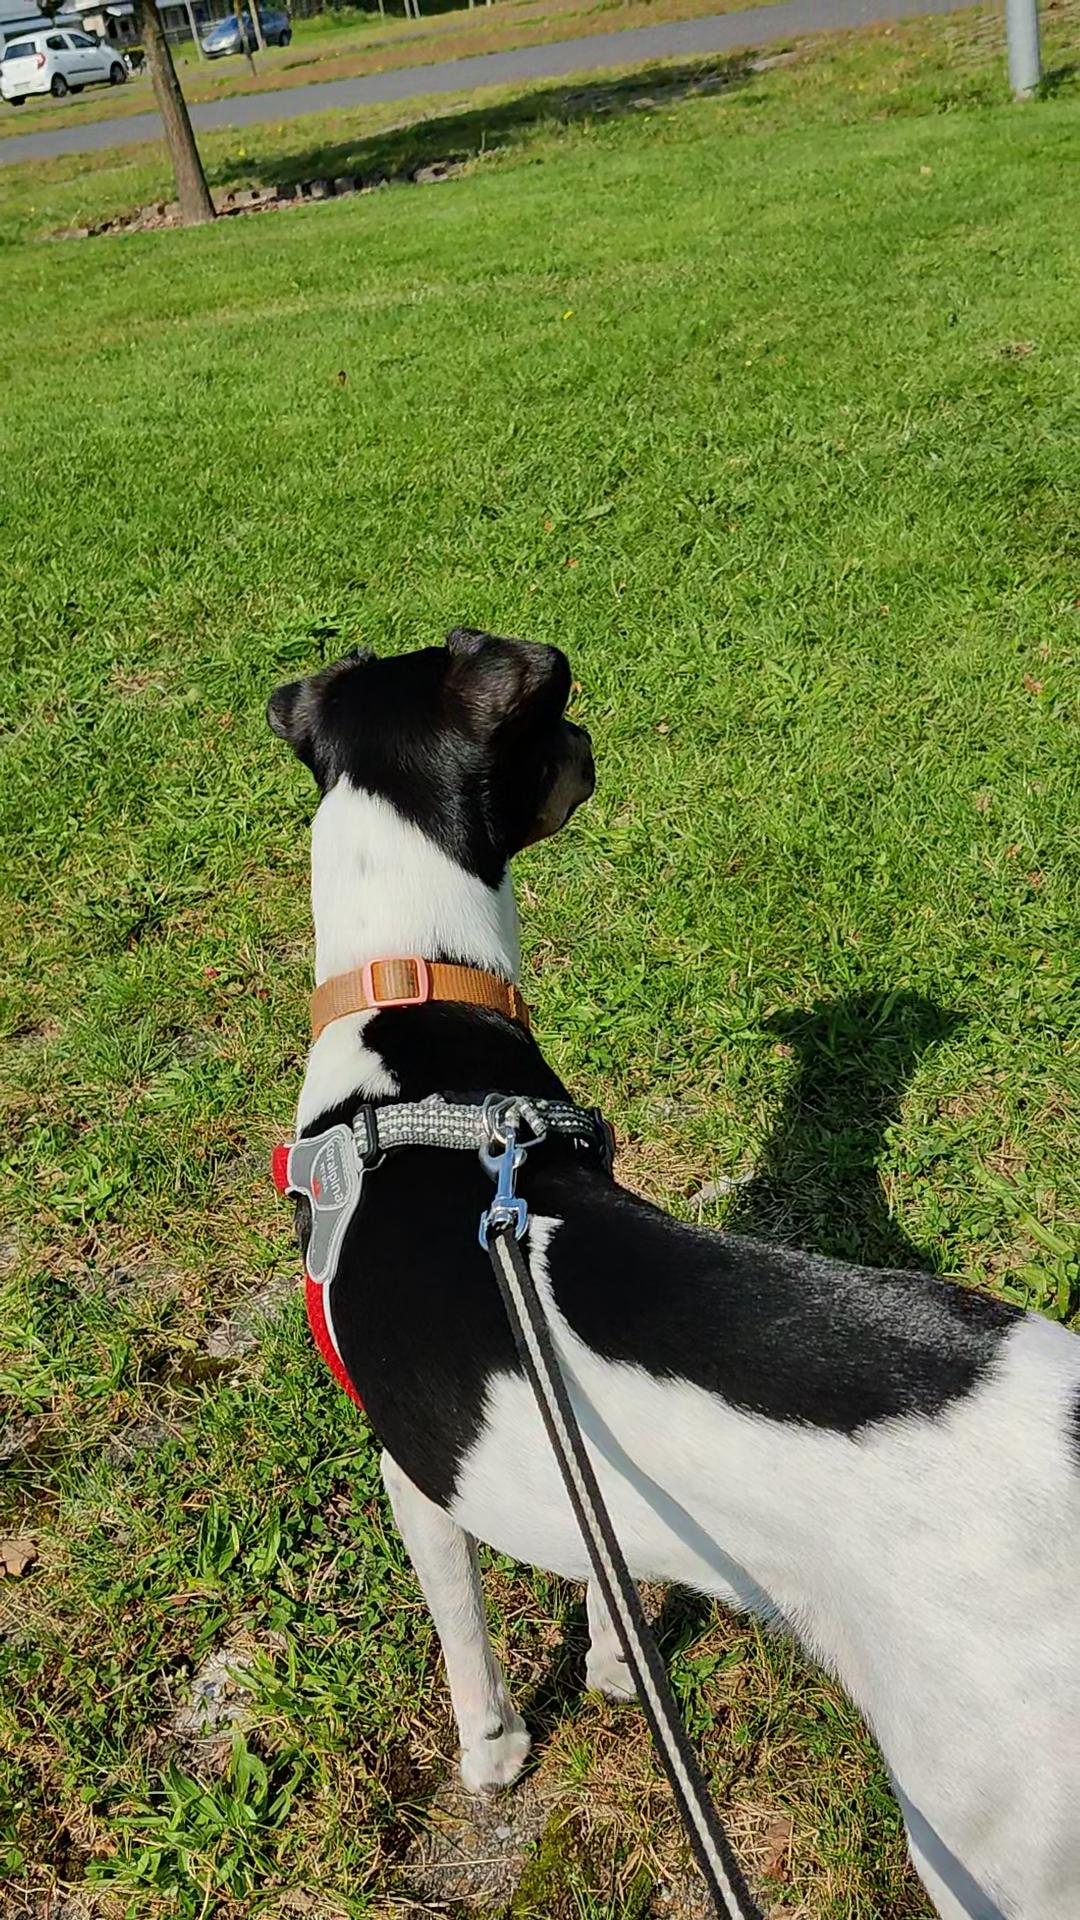Dog: (214, 562, 1079, 1919)
